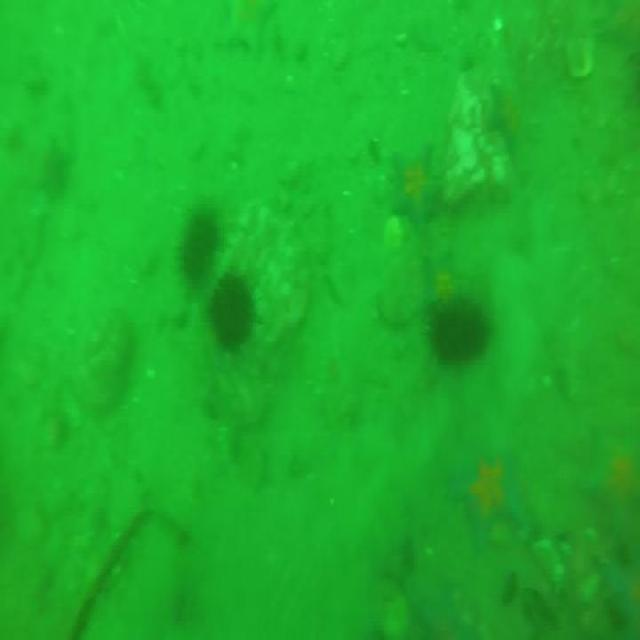echinus: (423, 294, 490, 360), (209, 270, 256, 352), (173, 204, 220, 286)
scallop: (568, 36, 597, 80)
starfish: (452, 447, 532, 550), (587, 410, 640, 532), (386, 148, 445, 238), (410, 584, 480, 640), (600, 559, 637, 640)
